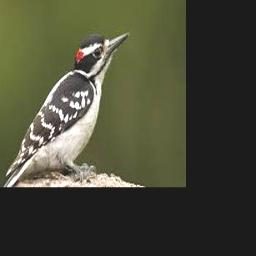Woodpecker: (3, 31, 129, 187)
